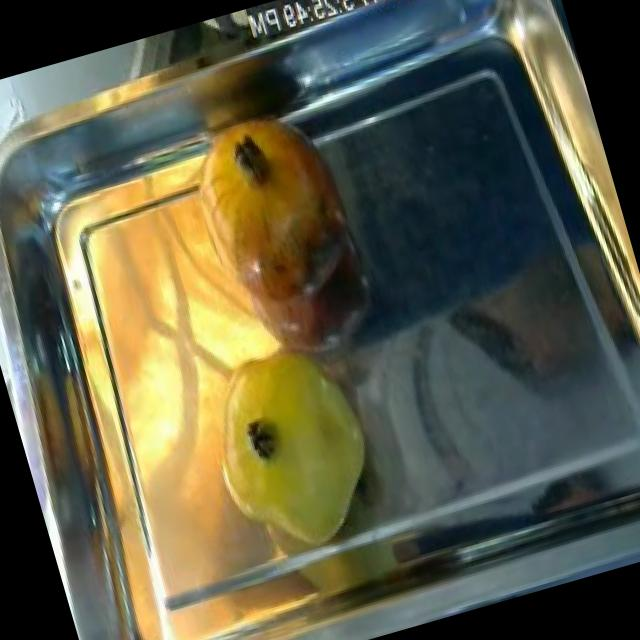fruit: (175, 311, 405, 576), (166, 88, 380, 340)
